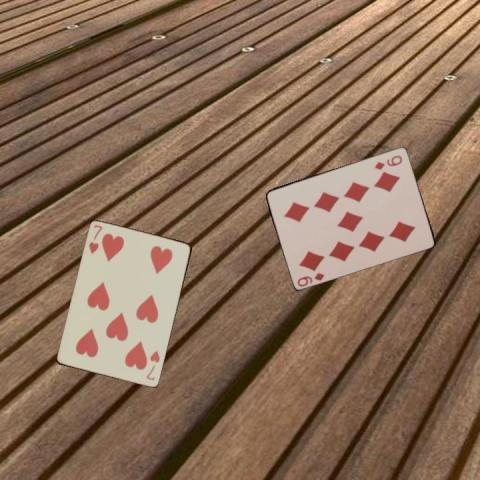7h: (144, 347, 162, 382), (86, 222, 104, 255)
9d: (371, 152, 404, 171), (295, 270, 326, 288)
